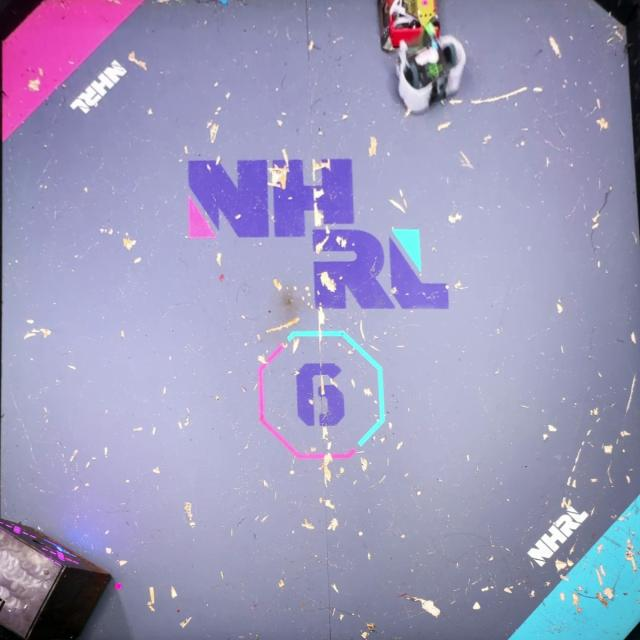housebot: (0, 516, 112, 640)
robot: (396, 36, 467, 114), (378, 0, 442, 52)
